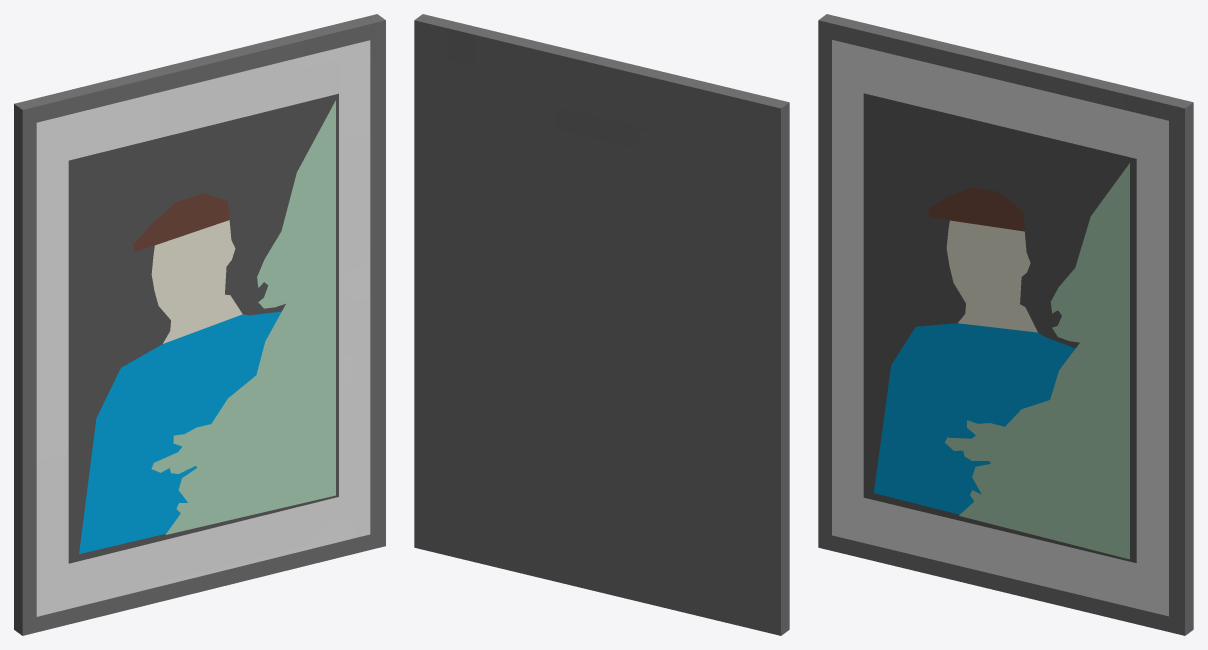
File: picture_045.glb
The picture shows the model from 3 angles, left to right: view 1: azimuth 30°, elevation 25°; view 2: azimuth 150°, elevation 25°; view 3: azimuth 330°, elevation 25°; orthographic projection.
Visible parts, largest first — view 1: picture_045; view 2: picture_045; view 3: picture_045.
Part boxes in pixels (<box>): picture_045: <box>14,14,385,635</box>; picture_045: <box>414,14,789,635</box>; picture_045: <box>818,14,1193,635</box>.
Bounding box in the file's own units: 0.7492 × 1.03 × 0.0394.
1 material, 1 textured.
